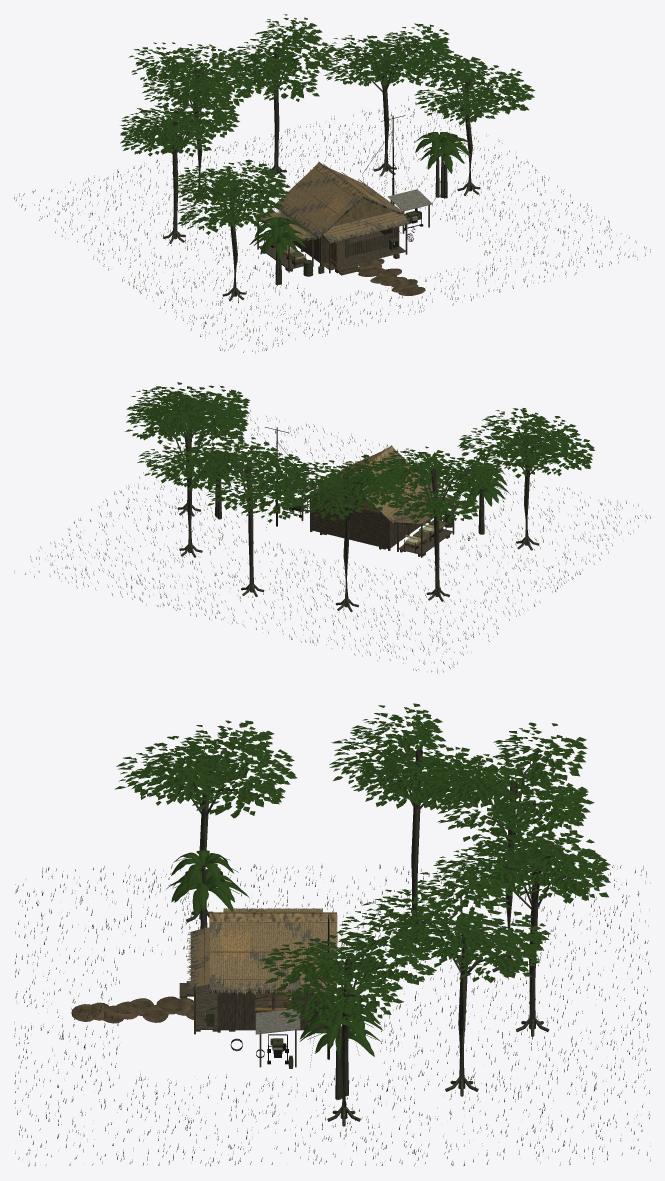
The model's file is C2_RelayStation.fbx.
The picture shows the model from 3 angles, top to bottom: view 1: azimuth 30°, elevation 25°; view 2: azimuth 150°, elevation 25°; view 3: azimuth 270°, elevation 25°; orthographic projection. The views are drawn at different scales.
Parts seen in each view (by area): view 1: Canopy leaves / Foliage.011, Canopy leaves / Foliage.010, Grass blades / Grass.001, Canopy leaves / Foliage.007, Canopy leaves / Foliage.008, Canopy leaves / Foliage.009, Canopy leaves / Foliage.006, Overlapping dry palm leaflets / PalmDry.005, Floor bearer / WeatheredTimber.003, Veined folded leaf / Foliage.002, Veined folded leaf / Foliage.003, Foot-worn earth / TrampledEarth.001 (+11 smaller); view 2: Canopy leaves / Foliage.009, Canopy leaves / Foliage.008, Canopy leaves / Foliage.011, Canopy leaves / Foliage.006, Canopy leaves / Foliage.007, Grass blades / Grass.001, Canopy leaves / Foliage.010, Floor bearer / WeatheredTimber.003, Overlapping dry palm leaflets / PalmDry.005, Rough bark trunk / Bark.006, Rough bark trunk / Bark.008, Rough bark trunk / Bark.007 (+4 smaller); view 3: Canopy leaves / Foliage.007, Canopy leaves / Foliage.010, Canopy leaves / Foliage.009, Canopy leaves / Foliage.011, Canopy leaves / Foliage.006, Grass blades / Grass.001, Canopy leaves / Foliage.008, Overlapping dry palm leaflets / PalmDry.006, Veined folded leaf / Foliage.002, Floor bearer / WeatheredTimber.003, Foot-worn earth / TrampledEarth.001, Dense palm underthatch / PalmOld.006 (+12 smaller).
Part boxes in pixels (left/top/right/bottom): Canopy leaves / Foliage.011: left=171, top=159, right=290, bottom=234; Canopy leaves / Foliage.010: left=407, top=47, right=535, bottom=125; Grass blades / Grass.001: left=14, top=93, right=650, bottom=353; Canopy leaves / Foliage.007: left=128, top=42, right=255, bottom=110; Canopy leaves / Foliage.008: left=218, top=14, right=335, bottom=101; Canopy leaves / Foliage.009: left=323, top=23, right=451, bottom=86; Canopy leaves / Foliage.006: left=120, top=92, right=239, bottom=156; Overlapping dry palm leaflets / PalmDry.005: left=275, top=167, right=362, bottom=235; Floor bearer / WeatheredTimber.003: left=292, top=226, right=399, bottom=275; Veined folded leaf / Foliage.002: left=249, top=217, right=307, bottom=261; Veined folded leaf / Foliage.003: left=414, top=132, right=473, bottom=173; Foot-worn earth / TrampledEarth.001: left=355, top=258, right=425, bottom=295; Canopy leaves / Foliage.009: left=125, top=398, right=248, bottom=490; Canopy leaves / Foliage.008: left=191, top=437, right=310, bottom=522; Canopy leaves / Foliage.011: left=457, top=408, right=594, bottom=478; Canopy leaves / Foliage.006: left=376, top=446, right=504, bottom=524; Canopy leaves / Foliage.007: left=282, top=454, right=409, bottom=521; Grass blades / Grass.001: left=14, top=409, right=650, bottom=673; Canopy leaves / Foliage.010: left=126, top=382, right=250, bottom=435; Floor bearer / WeatheredTimber.003: left=310, top=498, right=428, bottom=550; Overlapping dry palm leaflets / PalmDry.005: left=362, top=452, right=432, bottom=523; Rough bark trunk / Bark.006: left=410, top=469, right=469, bottom=601; Rough bark trunk / Bark.008: left=229, top=462, right=275, bottom=596; Rough bark trunk / Bark.007: left=315, top=474, right=373, bottom=612; Canopy leaves / Foliage.007: left=421, top=722, right=594, bottom=846; Canopy leaves / Foliage.010: left=259, top=905, right=436, bottom=1027; Canopy leaves / Foliage.009: left=357, top=862, right=550, bottom=982; Canopy leaves / Foliage.011: left=114, top=720, right=297, bottom=818; Canopy leaves / Foliage.006: left=329, top=703, right=499, bottom=810; Grass blades / Grass.001: left=14, top=864, right=650, bottom=1166; Canopy leaves / Foliage.008: left=433, top=820, right=610, bottom=903; Overlapping dry palm leaflets / PalmDry.006: left=209, top=915, right=337, bottom=994; Veined folded leaf / Foliage.002: left=166, top=850, right=249, bottom=916; Floor bearer / WeatheredTimber.003: left=179, top=981, right=327, bottom=1032; Foot-worn earth / TrampledEarth.001: left=71, top=996, right=193, bottom=1023; Dense palm underthatch / PalmOld.006: left=209, top=921, right=336, bottom=993.
Size of what is drawn, in the model's own units: 3007 by 989 by 2703.
24 materials, 24 textured.
